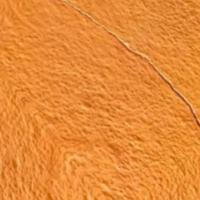crack: (91, 0, 199, 133)
